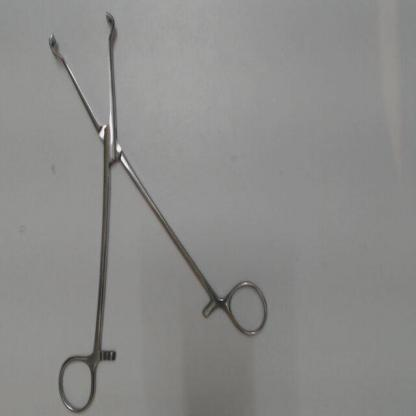8 Babcock Tissue Forceps: (42, 6, 273, 415)
